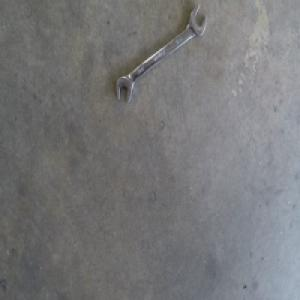Wrench: (115, 9, 207, 104)
